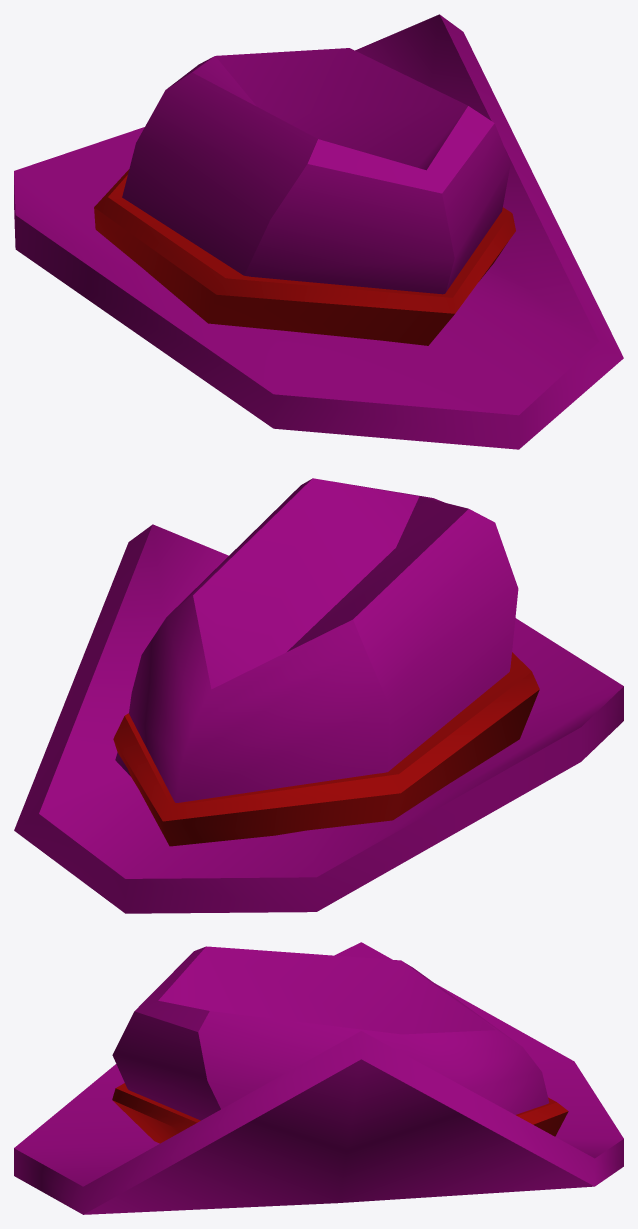
The model's file is m_chapo_cowboy.FBX.
3 renders of one model, top to bottom at view 1: azimuth 30°, elevation 25°; view 2: azimuth 150°, elevation 25°; view 3: azimuth 270°, elevation 25°, orthographic. The views are drawn at different scales.
Parts seen in each view (by area): view 1: Cylinder001, Cylinder002, Cylinder003; view 2: Cylinder002, Cylinder001, Cylinder003; view 3: Cylinder001, Cylinder002, Cylinder003.
Part boxes in pixels (x1=…): Cylinder001: x1=14, y1=14, x2=623, y2=449; Cylinder002: x1=122, y1=48, x2=510, y2=294; Cylinder003: x1=94, y1=169, x2=515, y2=345; Cylinder002: x1=115, y1=478, x2=518, y2=802; Cylinder001: x1=14, y1=524, x2=623, y2=913; Cylinder003: x1=113, y1=652, x2=539, y2=846; Cylinder001: x1=14, y1=942, x2=623, y2=1214; Cylinder002: x1=112, y1=946, x2=549, y2=1120; Cylinder003: x1=112, y1=1083, x2=568, y2=1143.
Bounding box in the file's own units: 107 × 55.78 × 155.
